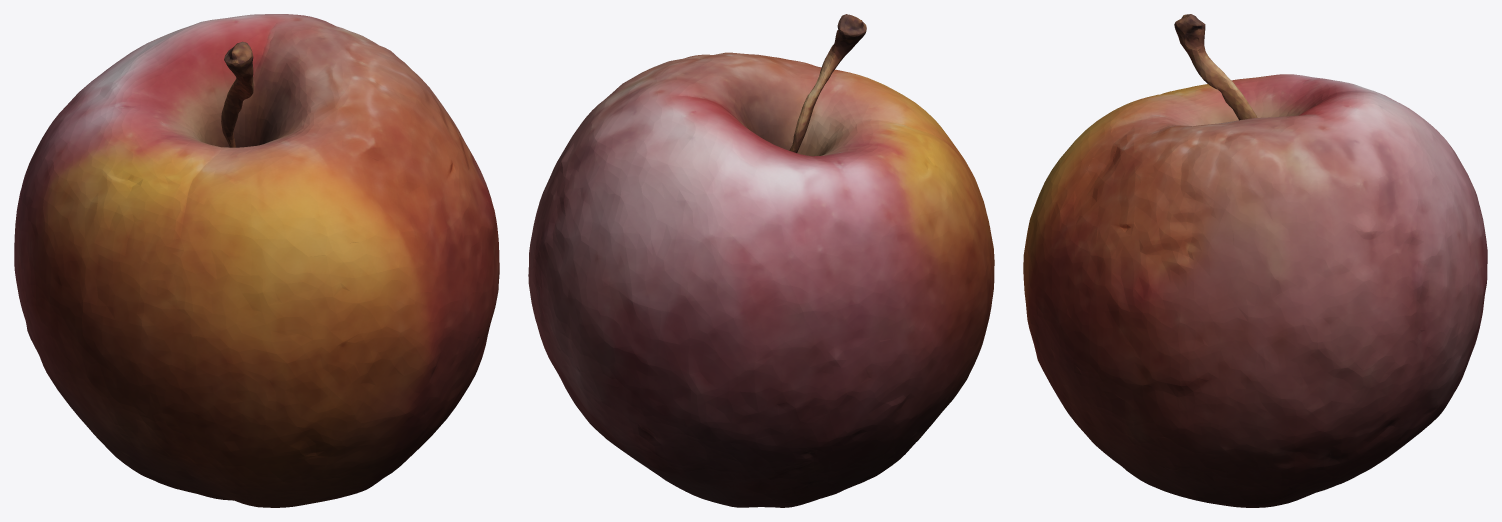
The model's file is source.glb.
3 views of the same model, side by side, from view 1: azimuth 30°, elevation 25°; view 2: azimuth 150°, elevation 25°; view 3: azimuth 270°, elevation 25° (orthographic). The views are drawn at different scales.
Visible parts, largest first — view 1: world; view 2: world; view 3: world.
Boxes of the visible parts, left/top/right/bottom form: world: left=14, top=14, right=499, bottom=507; world: left=528, top=14, right=994, bottom=507; world: left=1023, top=14, right=1487, bottom=507.
Bounding box in the file's own units: 0.9306 × 0.9969 × 0.961.
1 material, 1 textured.
